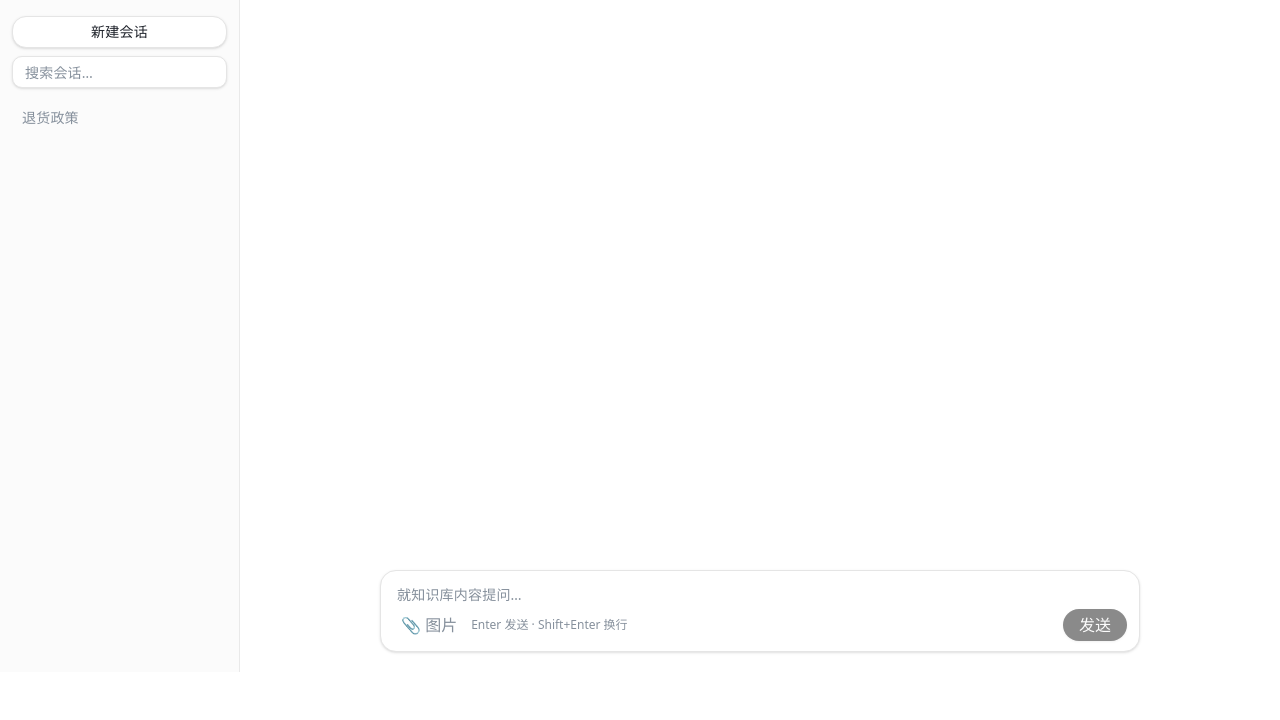
Test: renders history and opens cite drawer without extra request
Click the button "退货政策" at point(120, 118), box [12,100,227,136]
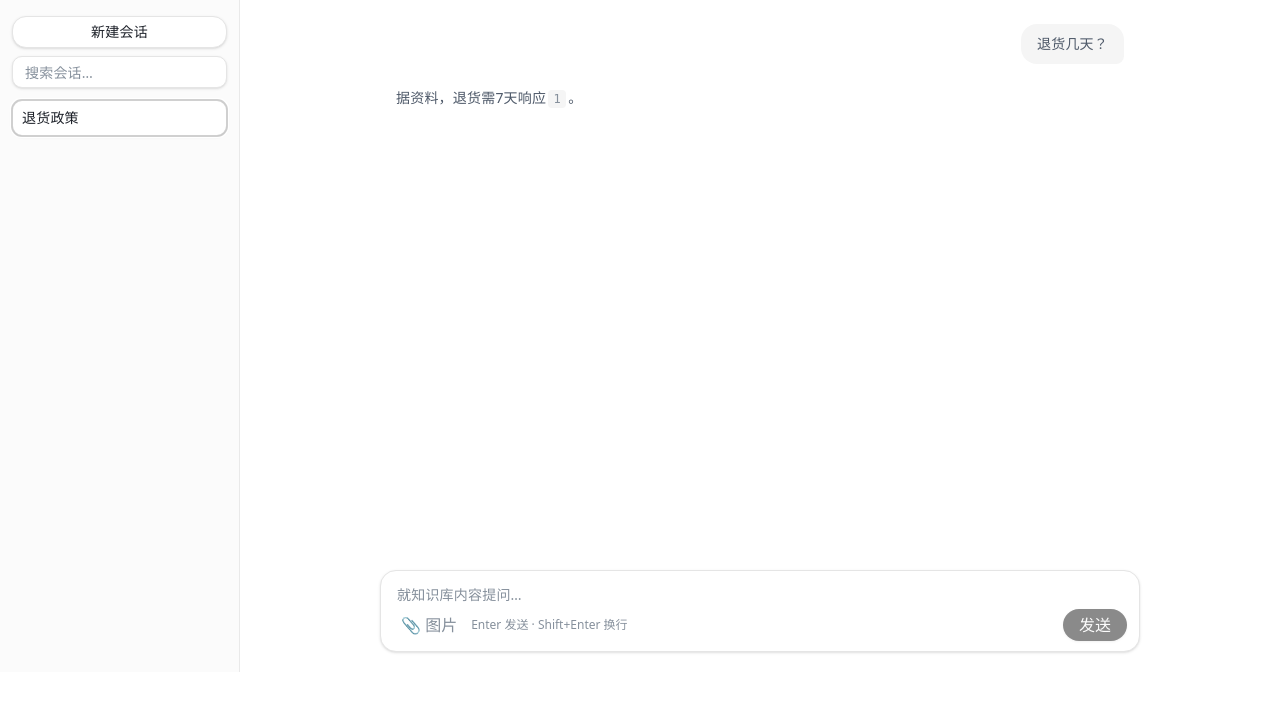
Expected: the text "据资料，退货需7天响应 1 。" is shown, [396,88,582,108]
引用角标只留序号，来源名在可访问名（与悬停提示）里——点它仍开右侧原文抽屉
Click the button named "引用 1：运维手册.md" at point(557, 99), box [548,90,566,108]
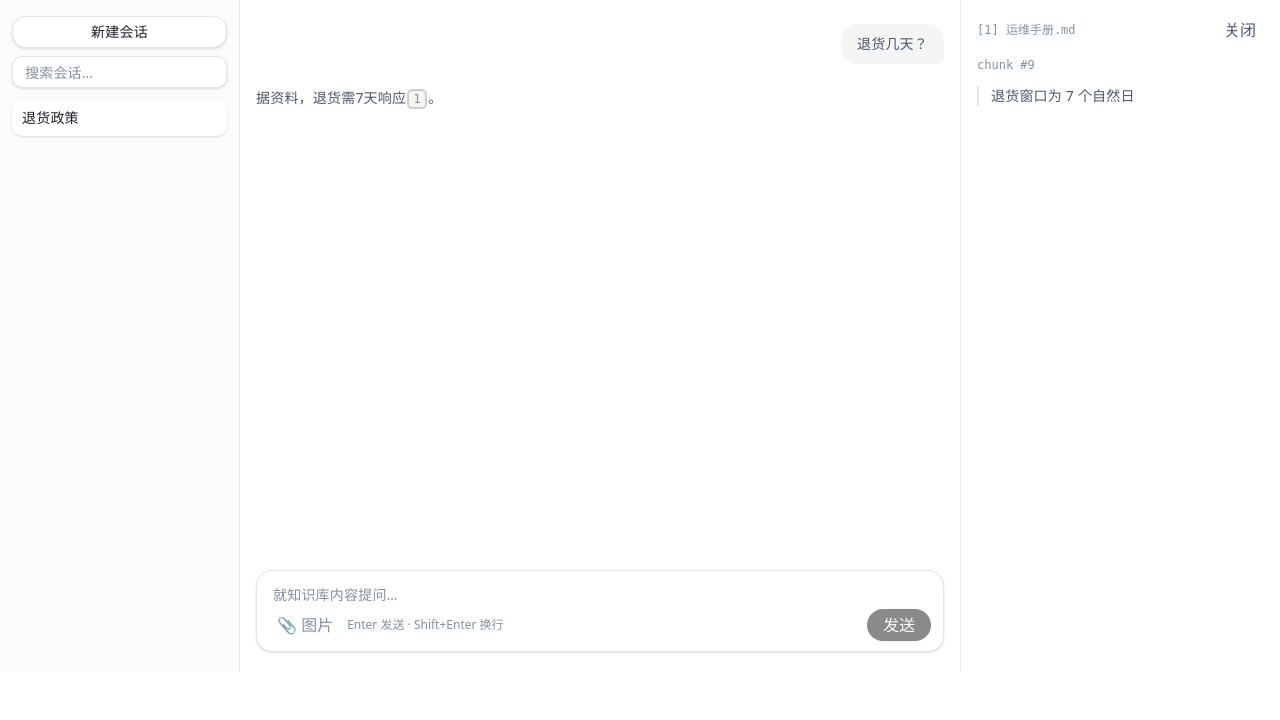
Expected: the text "退货窗口为 7 个自然日" is shown, [977,86,1264,106]
